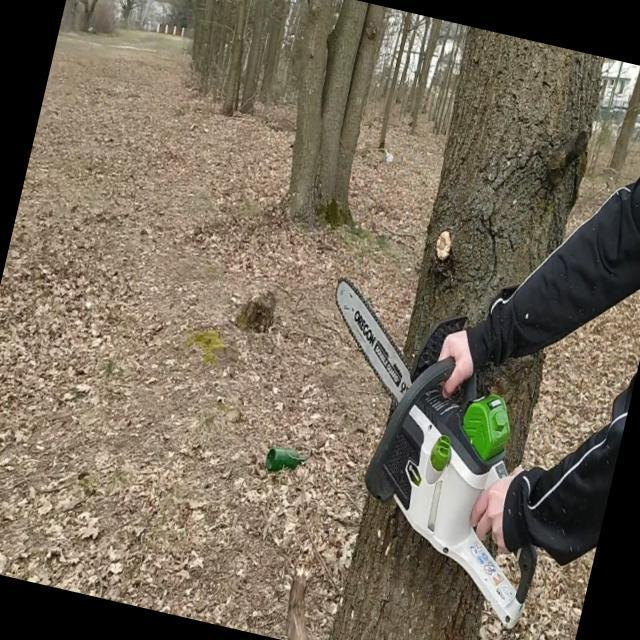Chainsaw: (263, 273, 592, 639)
